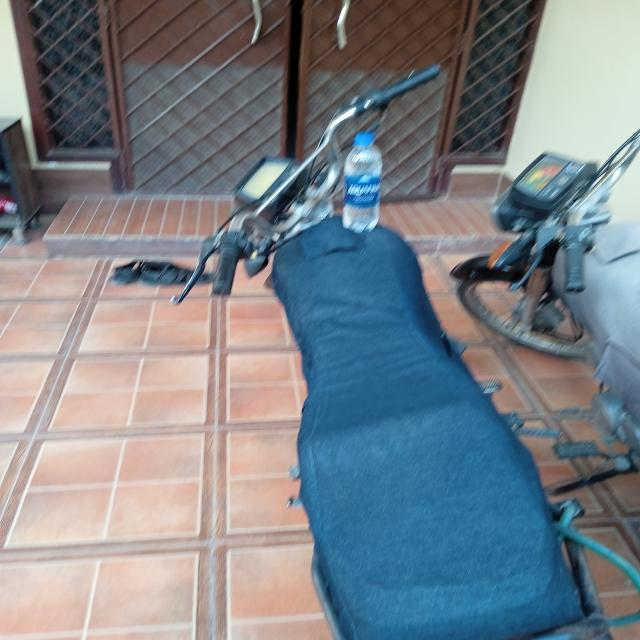Plastic: (340, 137, 388, 236)
